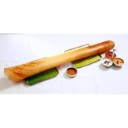dosa: (4, 37, 116, 82)
